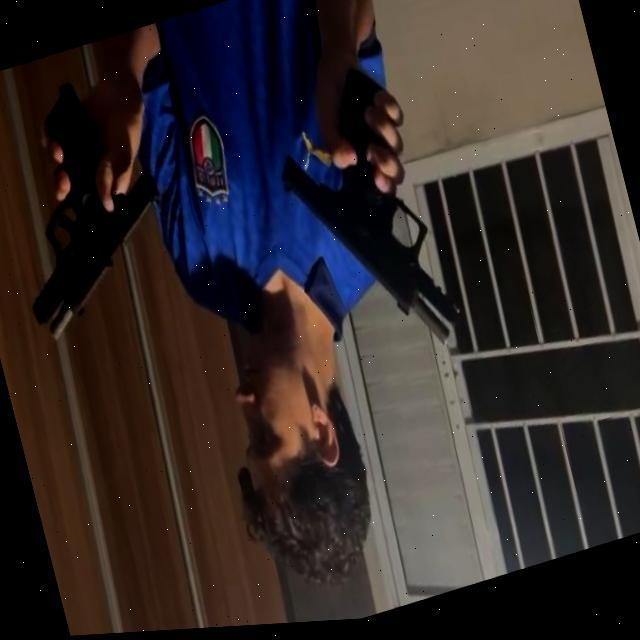gun: (259, 56, 466, 392), (0, 58, 186, 347)
